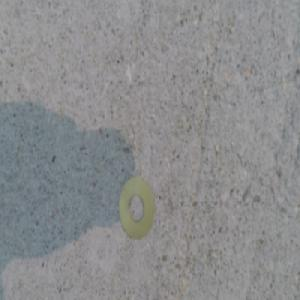Washer: (115, 173, 154, 240)
